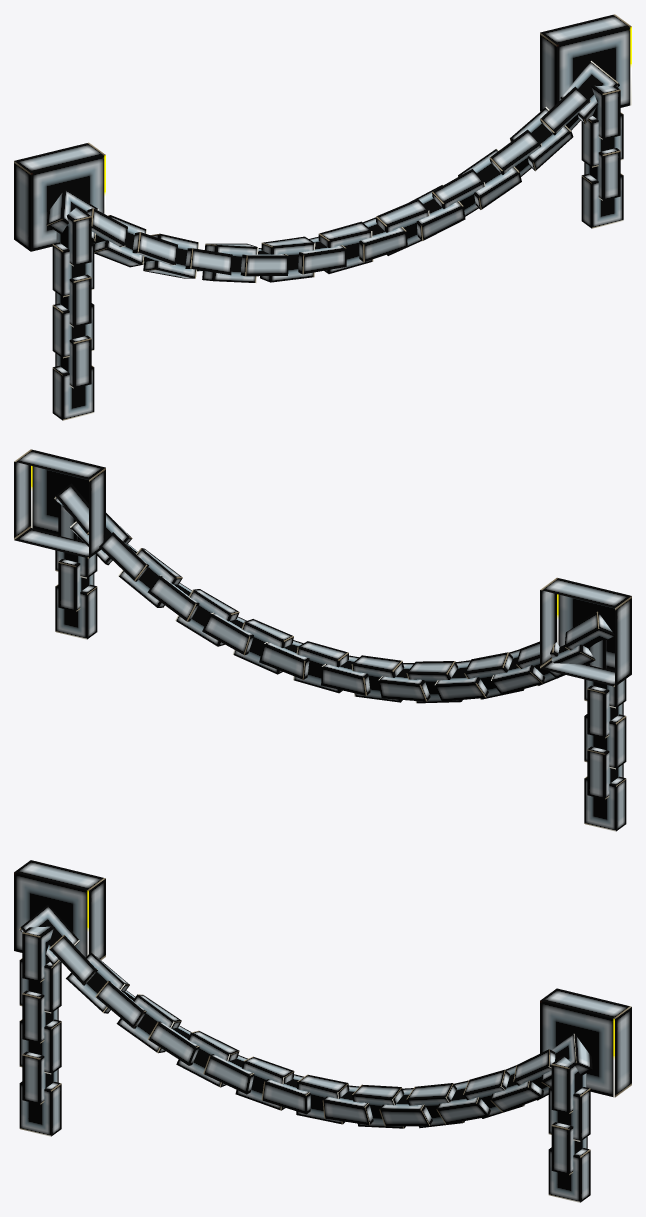
File: deco_cathedral_chainWall.FBX
3 views of the same model, one above another, from view 1: azimuth 30°, elevation 25°; view 2: azimuth 150°, elevation 25°; view 3: azimuth 330°, elevation 25° (orthographic).
Visible parts, largest first — view 1: deco_cathedral_chainWall; view 2: deco_cathedral_chainWall; view 3: deco_cathedral_chainWall.
Boxes of the visible parts, x1,y1,x2,y2 form: deco_cathedral_chainWall: [14, 14, 631, 420]; deco_cathedral_chainWall: [14, 449, 631, 831]; deco_cathedral_chainWall: [14, 860, 631, 1202].
Bounding box in the file's own units: 3.43 × 1.32 × 0.3358.
Materials: 1 (1 with a texture image).
